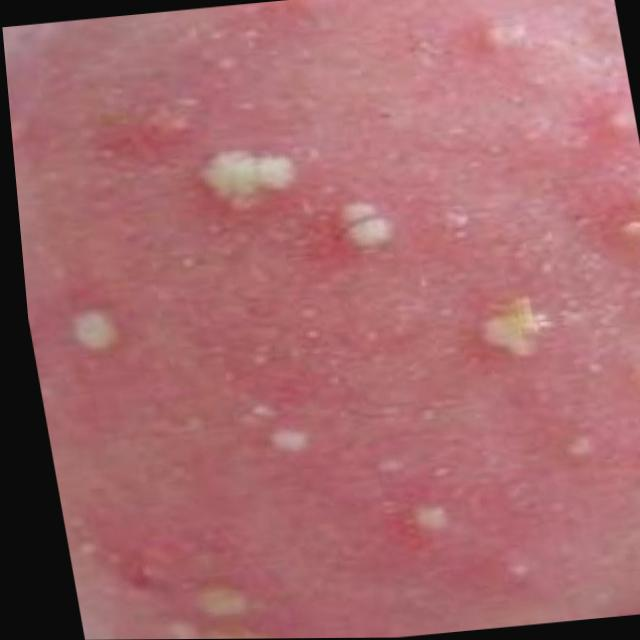pustule: (164, 85, 601, 400), (24, 268, 488, 563), (443, 0, 640, 271), (127, 533, 287, 639)
